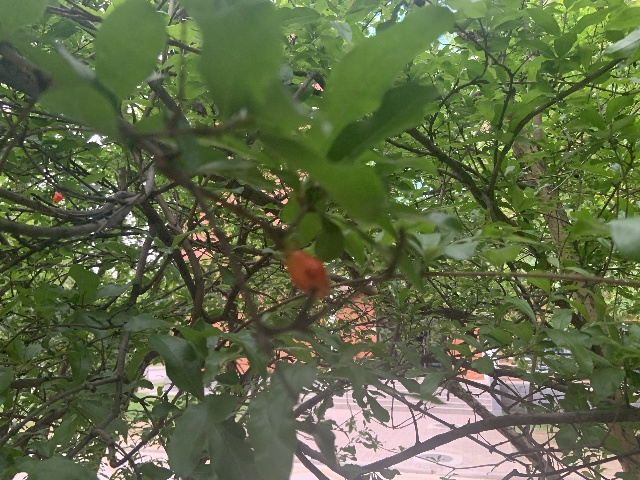bud: (285, 249, 330, 300)
flower: (52, 191, 65, 203)
